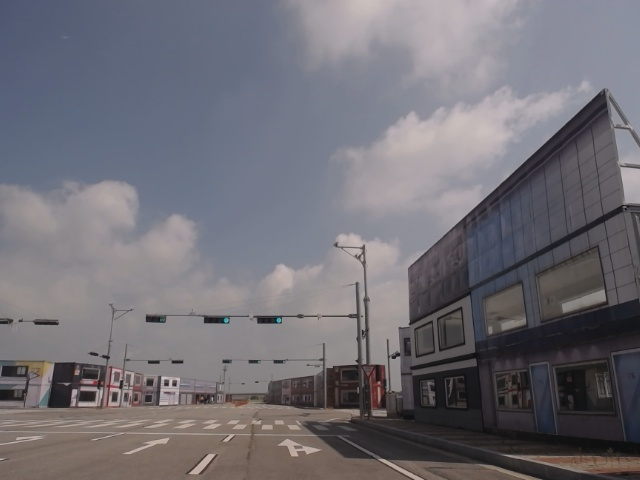straight_green_4: (257, 314, 283, 324), (204, 315, 231, 324)
